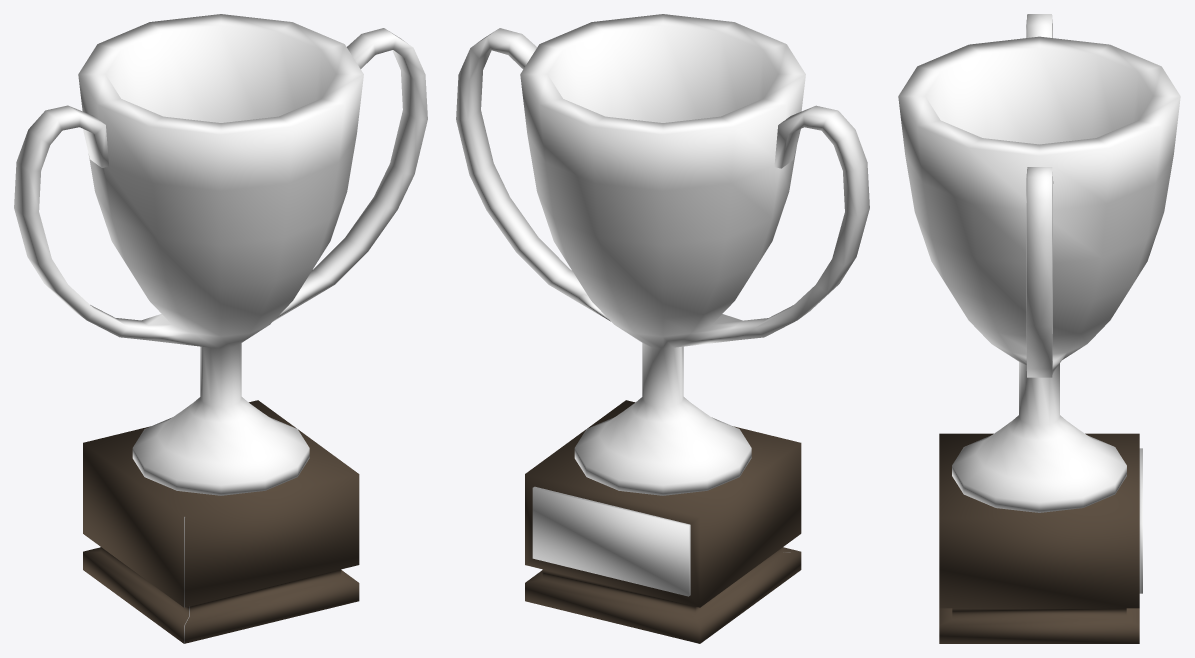
Rendered from Trophy.fbx.
3 views of the same model, side by side, from view 1: azimuth 30°, elevation 25°; view 2: azimuth 150°, elevation 25°; view 3: azimuth 270°, elevation 25° (orthographic).
Visible parts, largest first — view 1: Cube; view 2: Cube; view 3: Cube.
Part boxes in pixels (x1=…): Cube: x1=14, y1=14, x2=427, y2=643; Cube: x1=456, y1=14, x2=869, y2=643; Cube: x1=898, y1=14, x2=1180, y2=643.
Size of the model in its own units: 324 by 395 by 200.
